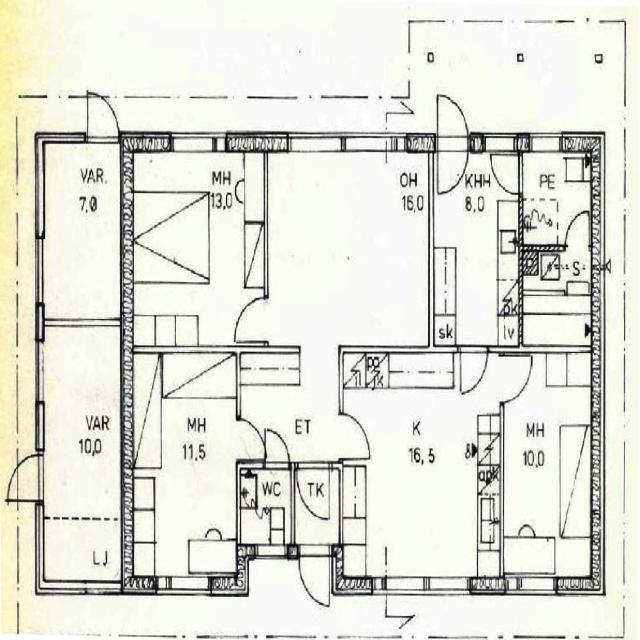door: (437, 86, 468, 152), (437, 132, 468, 196), (4, 455, 44, 501), (296, 462, 329, 516), (299, 544, 329, 603), (88, 86, 118, 143), (500, 355, 535, 402), (339, 414, 374, 459), (234, 298, 267, 341), (237, 418, 268, 459), (460, 346, 487, 393), (492, 154, 523, 193), (265, 425, 289, 468), (565, 209, 589, 250)
